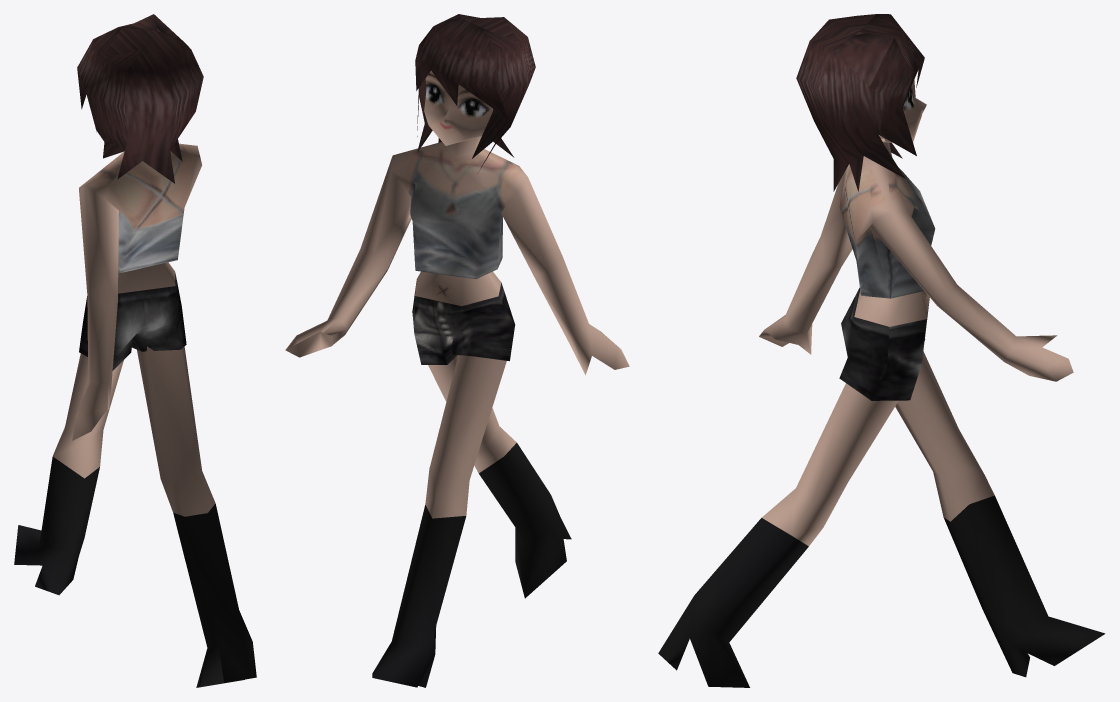
The model's file is icon1.ico.obj.
The picture shows the model from 3 angles, left to right: view 1: azimuth 30°, elevation 25°; view 2: azimuth 150°, elevation 25°; view 3: azimuth 270°, elevation 25°; orthographic projection. The views are drawn at different scales.
Bounding box in the file's own units: 0.3344 × 0.9618 × 0.5858.
Materials: 1 (1 with a texture image).
